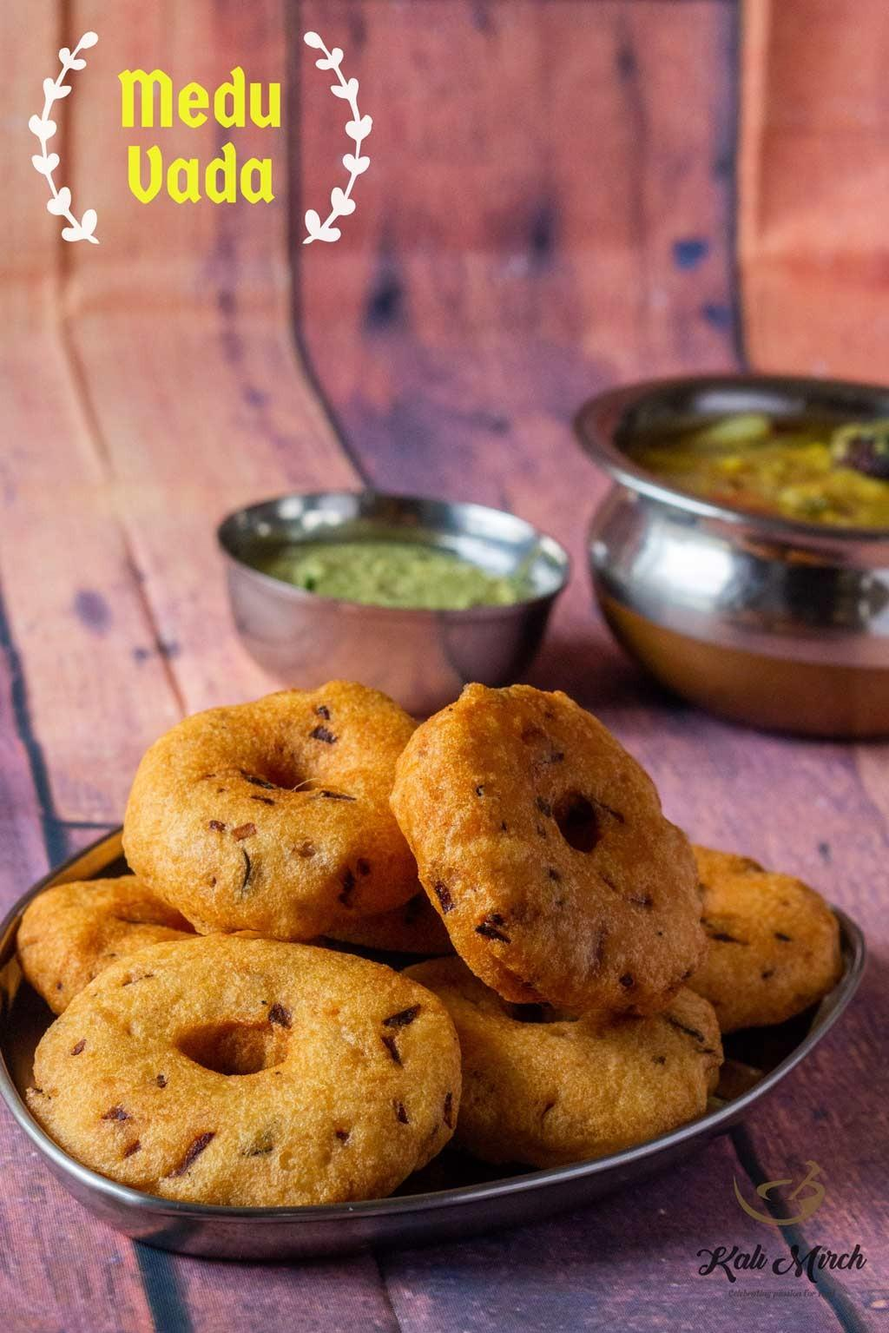medu vada: (7, 700, 889, 1196)
